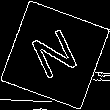N_SE: (26, 23, 84, 87)
